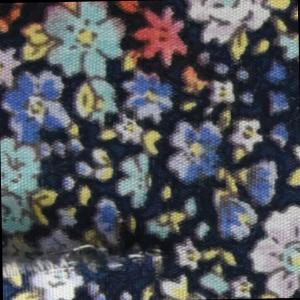Damage: (2, 232, 173, 300)
Stain: (92, 1, 204, 86), (1, 2, 72, 45)
